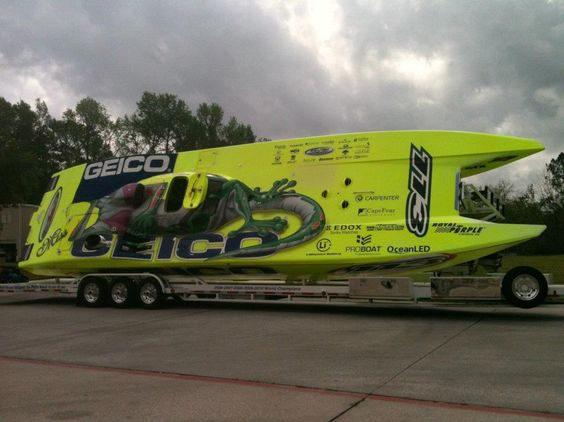Geico: (73, 226, 278, 257), (85, 154, 173, 177)
